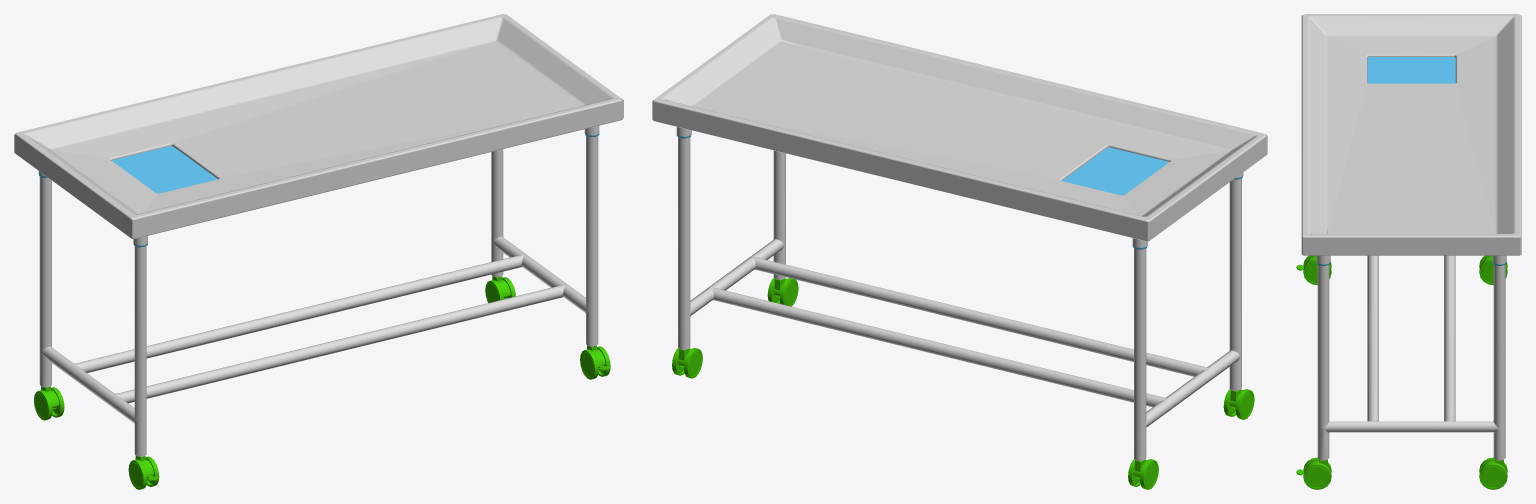
File: Desk03.fbx
The picture shows the model from 3 angles, left to right: view 1: azimuth 30°, elevation 25°; view 2: azimuth 150°, elevation 25°; view 3: azimuth 270°, elevation 25°; orthographic projection. The views are drawn at different scales.
Parts seen in each view (by area): view 1: Desk03, Desk03Stand, Desk03Wheels; view 2: Desk03, Desk03Stand, Desk03Wheels; view 3: Desk03, Desk03Stand, Desk03Wheels.
Part boxes in pixels (x1,y1,x2,y2): Desk03: (14,14,623,239); Desk03Stand: (38,126,599,456); Desk03Wheels: (34,276,610,489); Desk03: (652,14,1267,241); Desk03Stand: (676,127,1243,461); Desk03Wheels: (672,278,1254,489); Desk03: (1301,14,1521,255); Desk03Stand: (1316,255,1506,460); Desk03Wheels: (1296,255,1507,489).
Bounding box in the file's own units: 150 × 63.98 × 81.25.
